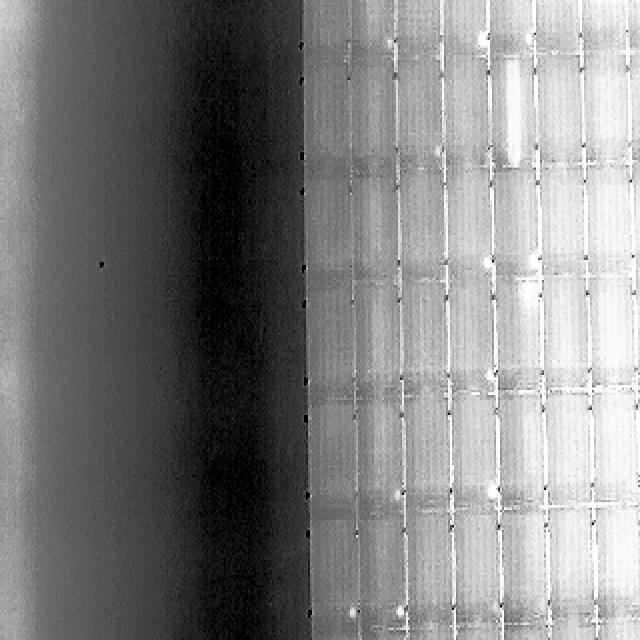Hotspots: (501, 59, 526, 168), (384, 484, 405, 508), (342, 598, 360, 626), (484, 478, 500, 504), (525, 250, 541, 274), (476, 24, 491, 49), (392, 598, 406, 624), (520, 286, 538, 305), (380, 33, 397, 53), (479, 366, 496, 386), (478, 254, 493, 274), (429, 143, 445, 161), (521, 30, 535, 48), (394, 635, 406, 640)
PV-modules: (403, 511, 456, 631), (306, 286, 358, 406), (309, 399, 361, 518), (353, 397, 405, 516), (452, 512, 504, 630), (438, 59, 491, 174), (580, 52, 631, 171), (357, 517, 408, 634), (502, 512, 554, 626), (311, 519, 362, 635), (493, 278, 543, 396), (545, 390, 595, 507), (352, 284, 401, 403), (396, 61, 447, 175), (584, 278, 635, 392), (487, 59, 538, 173), (402, 284, 452, 400), (302, 64, 352, 180), (582, 166, 633, 279), (448, 393, 498, 508), (303, 178, 357, 284), (490, 169, 541, 281), (539, 166, 589, 280), (543, 279, 592, 395), (446, 282, 495, 398), (349, 64, 398, 180), (536, 58, 586, 171), (497, 392, 546, 507), (589, 388, 637, 505), (404, 394, 452, 511), (547, 508, 597, 620), (443, 168, 492, 282), (400, 170, 449, 283), (351, 175, 400, 285), (594, 505, 640, 620), (300, 0, 350, 66), (394, 0, 444, 61), (348, 0, 396, 63), (436, 0, 488, 58), (486, 0, 536, 60), (534, 0, 582, 57), (580, 0, 628, 48), (624, 48, 640, 160), (628, 160, 640, 275), (630, 272, 640, 392), (546, 617, 598, 640), (622, 0, 640, 50), (596, 620, 640, 640), (502, 625, 554, 640), (634, 388, 640, 502), (404, 627, 456, 640), (454, 627, 506, 640), (356, 630, 410, 640), (312, 632, 364, 640)
